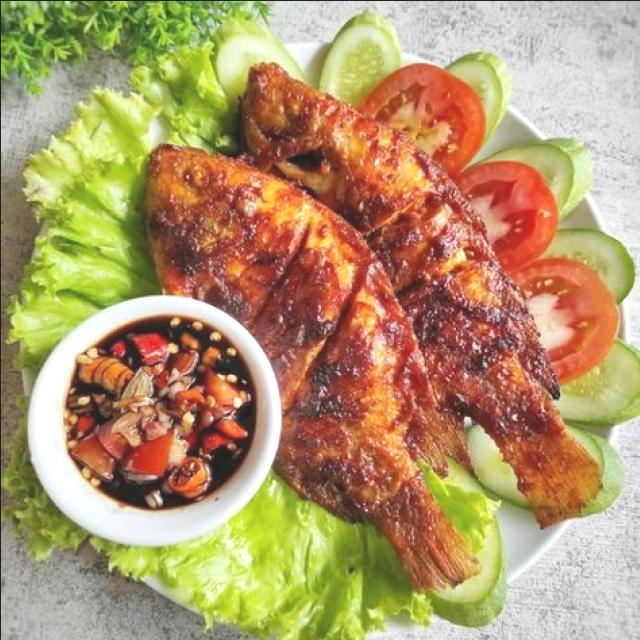ikan bakar: (240, 62, 602, 528), (143, 144, 479, 595)
